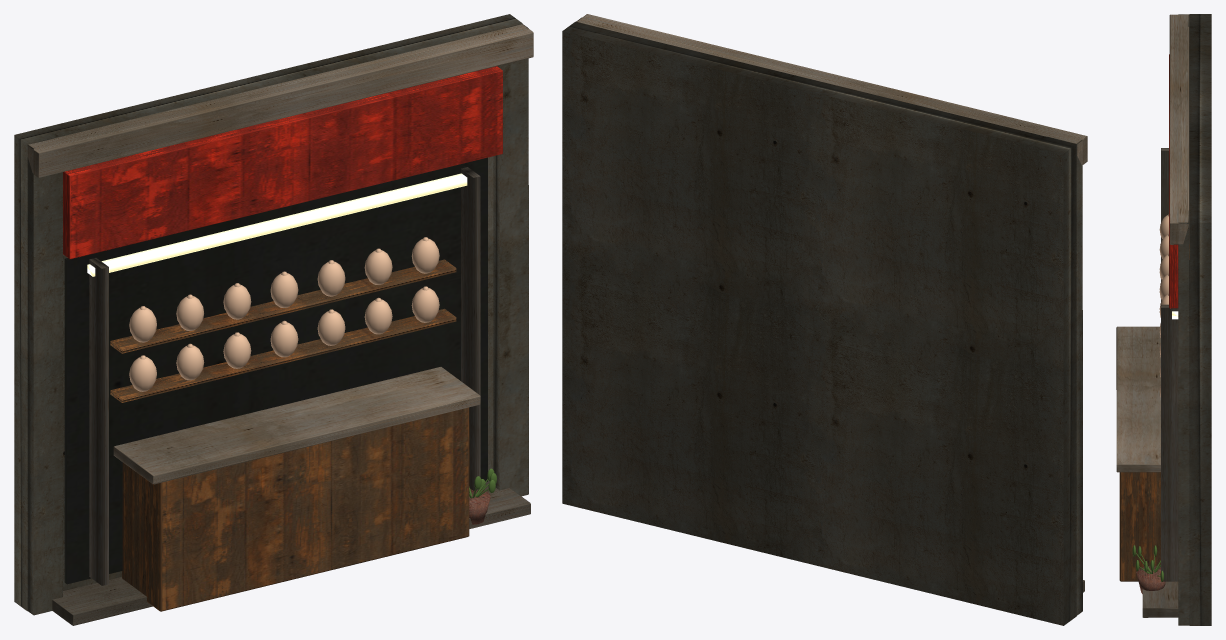
File: mat_tien_tret_04.glb
3 renders of one model, left to right at view 1: azimuth 30°, elevation 25°; view 2: azimuth 150°, elevation 25°; view 3: azimuth 270°, elevation 25°, orthographic. The views are drawn at different scales.
Parts seen in each view (by area): view 1: mat_tien_tret_04.001; view 2: mat_tien_tret_04.001; view 3: mat_tien_tret_04.001.
Part boxes in pixels (x1,y1,x2,y2): mat_tien_tret_04.001: [14, 14, 533, 625]; mat_tien_tret_04.001: [562, 14, 1087, 625]; mat_tien_tret_04.001: [1116, 14, 1211, 625].
Bounding box in the file's own units: 4 × 3.6 × 0.77.
Materials: 3 (2 with a texture image).
